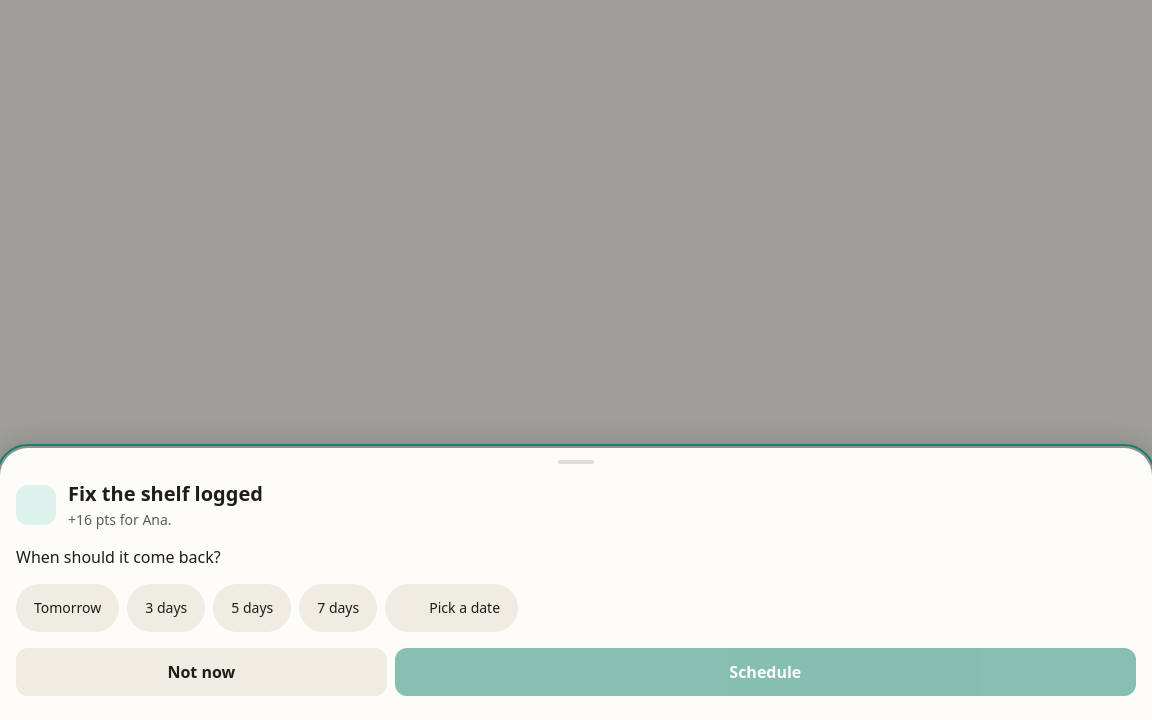
Scenario: NextTimeSheet › selecting a chip enables the primary button and labels it with the due day
Click the button with test id "next-time-chip" showing "3 days".
click(166, 608)  # box [127, 584, 205, 632]
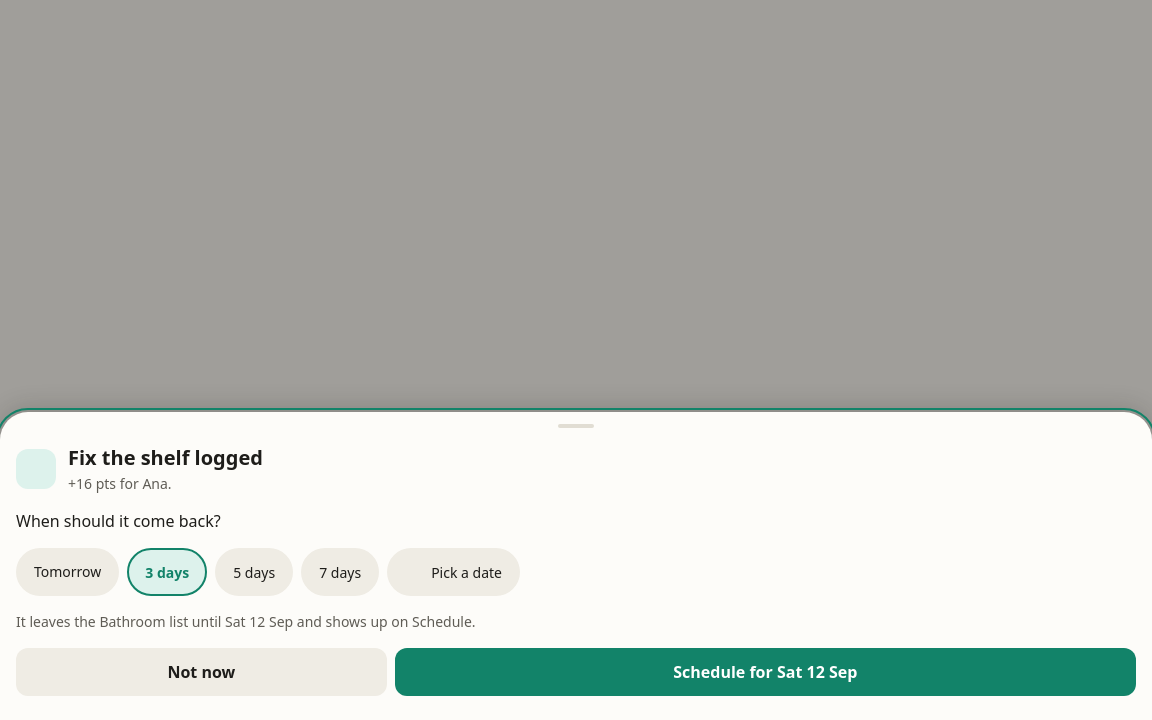
Now the button with test id "next-time-schedule" shows "Schedule for", box [395, 648, 1136, 696]
